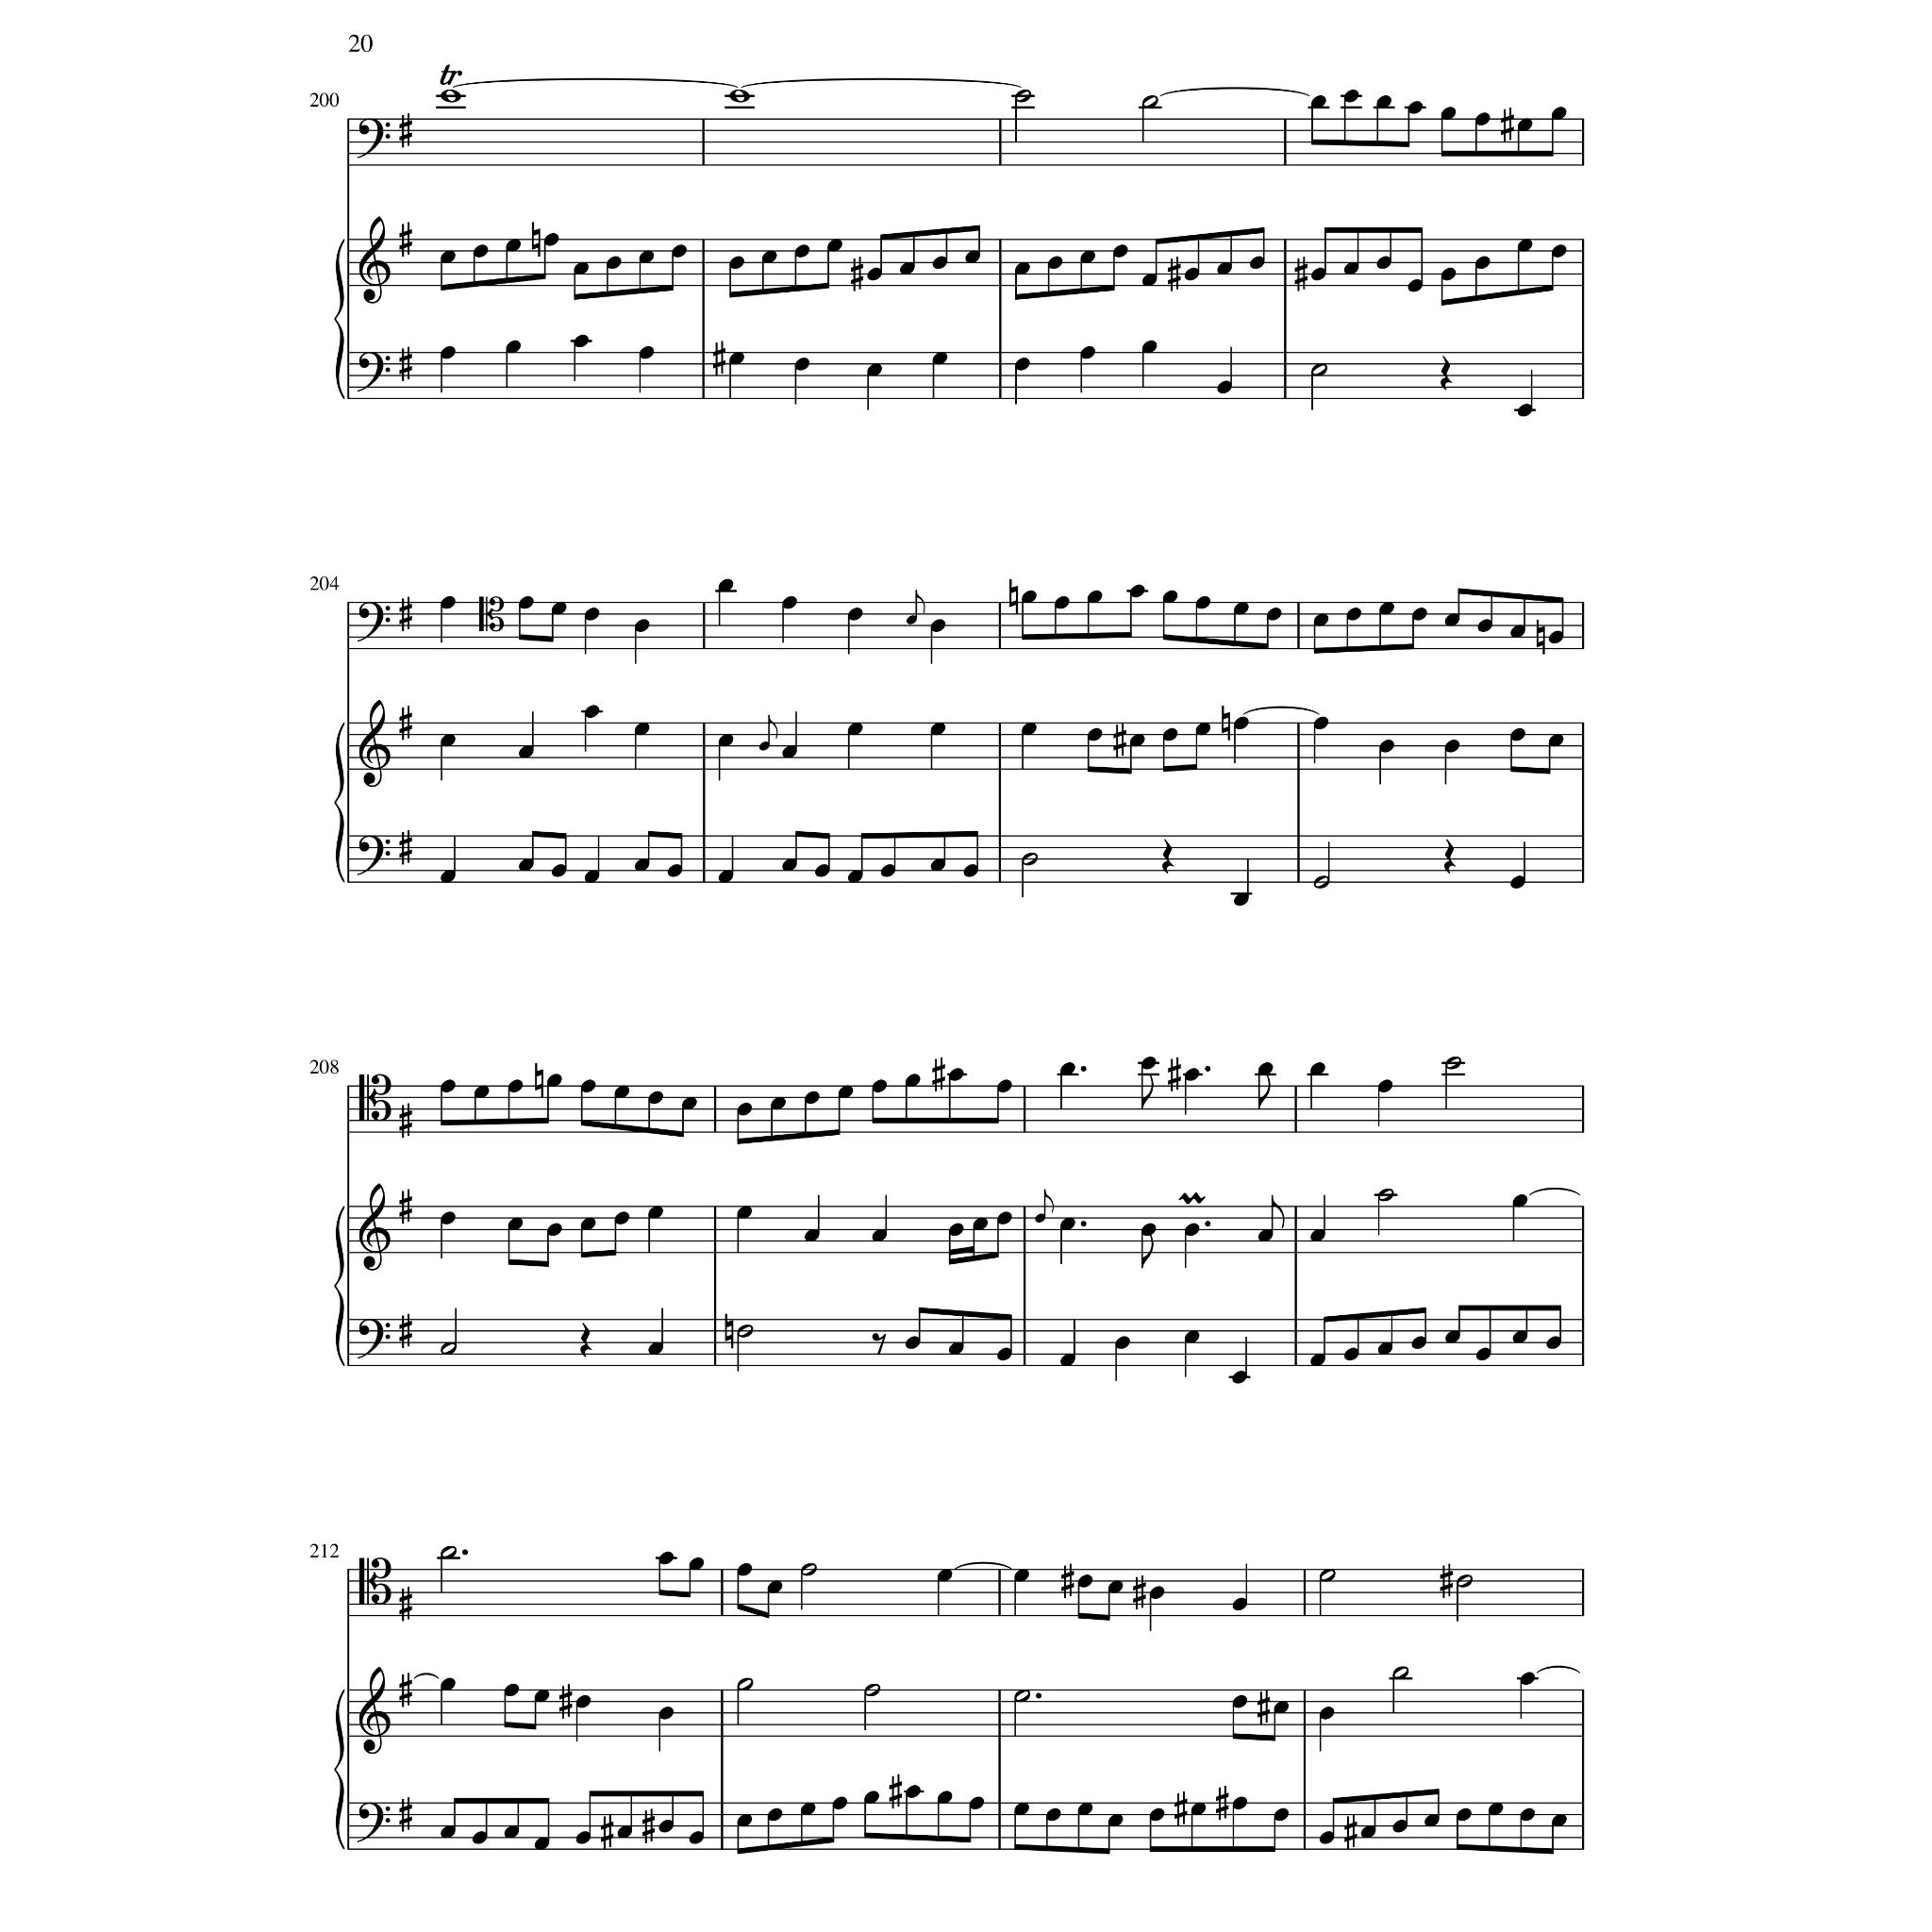brace: (333, 239, 345, 400), (333, 722, 345, 883), (333, 1205, 345, 1366), (333, 1690, 345, 1851)
fClef: (357, 352, 391, 393), (357, 119, 391, 159), (357, 835, 391, 876), (357, 602, 391, 642), (357, 1318, 391, 1359), (357, 1803, 391, 1844)
flag8thDown: (1141, 1235, 1154, 1269), (1141, 1076, 1154, 1109), (1258, 1076, 1270, 1109)
flag8thUp: (1272, 1196, 1284, 1230), (1044, 1189, 1054, 1214), (916, 591, 925, 616), (770, 715, 778, 740)
gClef: (359, 216, 391, 304), (359, 699, 391, 787), (359, 1184, 391, 1272), (359, 1667, 391, 1755)
noteheadBlack: (517, 745, 534, 759), (517, 858, 534, 872), (517, 596, 534, 610), (929, 722, 947, 736), (929, 858, 947, 872), (1256, 1062, 1274, 1076), (1511, 1194, 1529, 1208), (545, 1223, 563, 1237), (1309, 267, 1325, 281), (1309, 96, 1325, 110), (1343, 262, 1359, 276), (1113, 244, 1129, 258), (1079, 251, 1095, 265), (1217, 380, 1233, 395), (1217, 262, 1233, 276), (1184, 267, 1200, 281), (1141, 340, 1157, 354), (1552, 244, 1568, 258), (1552, 106, 1568, 120), (1440, 267, 1456, 281), (1440, 106, 1456, 120), (1376, 96, 1392, 110), (1516, 403, 1532, 418), (1516, 239, 1532, 253), (1516, 119, 1532, 133), (639, 251, 655, 265), (671, 244, 686, 258), (573, 334, 589, 349), (573, 262, 589, 276), (441, 251, 456, 265), (506, 340, 522, 354), (506, 239, 522, 253), (472, 244, 488, 258), (964, 251, 980, 265), (899, 262, 915, 276), (1014, 357, 1030, 372), (1014, 262, 1030, 276), (761, 251, 777, 265), (794, 357, 810, 372), (794, 244, 810, 258), (826, 239, 842, 253), (867, 267, 883, 281), (867, 363, 883, 377), (1233, 893, 1249, 908), (1233, 717, 1249, 731), (1233, 602, 1249, 616), (1194, 722, 1210, 736), (1194, 596, 1210, 610), (1313, 717, 1329, 731), (1313, 614, 1329, 628), (1265, 607, 1281, 621), (1054, 596, 1070, 610), (1129, 584, 1145, 598), (1509, 625, 1525, 639), (1378, 602, 1394, 616), (1346, 607, 1362, 621), (1444, 614, 1460, 628), (1410, 607, 1426, 621), (584, 607, 600, 621), (584, 704, 600, 718), (633, 722, 649, 736), (550, 863, 566, 878), (550, 602, 566, 616), (718, 579, 734, 593), (667, 863, 683, 878), (633, 858, 649, 872), (441, 596, 456, 610), (879, 863, 895, 878), (847, 722, 863, 736), (847, 607, 863, 621), (1021, 722, 1037, 736), (962, 863, 978, 878), (782, 858, 798, 872), (782, 745, 798, 759), (782, 596, 798, 610), (814, 863, 830, 878), (1184, 1223, 1200, 1237), (1139, 1056, 1155, 1070), (1115, 1336, 1131, 1350), (1139, 1223, 1155, 1237), (996, 1346, 1012, 1361), (996, 1212, 1012, 1226), (1060, 1353, 1076, 1368), (1060, 1062, 1076, 1076), (1546, 1336, 1562, 1350), (1476, 1346, 1491, 1361), (1309, 1353, 1325, 1368), (1309, 1062, 1325, 1076), (1410, 1336, 1426, 1350), (1343, 1346, 1359, 1361), (681, 1097, 697, 1111), (648, 1205, 663, 1219), (614, 1212, 630, 1226), (441, 1212, 456, 1226), (948, 1223, 964, 1237), (904, 1336, 920, 1350), (736, 1205, 752, 1219), (736, 1102, 752, 1116), (770, 1097, 786, 1111), (1231, 1598, 1247, 1612), (1231, 1695, 1247, 1709), (1231, 1796, 1247, 1810), (1191, 1801, 1207, 1815), (1014, 1801, 1030, 1815), (1274, 1700, 1290, 1714), (1108, 1813, 1123, 1828), (1108, 1580, 1123, 1594), (1077, 1801, 1093, 1815), (1552, 1813, 1568, 1828), (1488, 1801, 1504, 1815), (1424, 1813, 1440, 1828), (575, 1695, 591, 1709), (534, 1836, 550, 1851), (688, 1557, 704, 1571), (658, 1552, 674, 1566), (441, 1677, 456, 1691), (832, 1796, 847, 1810), (800, 1801, 816, 1815), (1014, 1568, 1030, 1582), (968, 1796, 984, 1810), (936, 1568, 952, 1582), (736, 1813, 752, 1828), (766, 1580, 782, 1594), (929, 619, 947, 632), (971, 1217, 989, 1230), (1256, 1230, 1274, 1242), (1511, 1330, 1529, 1343), (545, 1074, 563, 1086), (1454, 1808, 1472, 1821), (616, 1826, 633, 1838), (502, 1826, 520, 1838), (502, 1684, 520, 1697), (1249, 257, 1265, 269), (1343, 90, 1359, 103), (1079, 347, 1095, 359), (1141, 274, 1157, 287), (1407, 280, 1422, 292), (1407, 103, 1422, 115), (1376, 257, 1392, 269), (1047, 257, 1063, 269), (1474, 257, 1490, 269), (1474, 113, 1490, 126), (639, 347, 655, 359), (607, 257, 623, 269), (729, 352, 745, 364), (729, 257, 745, 269), (441, 347, 456, 359), (543, 234, 559, 246), (932, 352, 948, 364), (932, 257, 948, 269), (1086, 729, 1102, 741), (1086, 591, 1102, 603), (1162, 729, 1178, 741), (1162, 591, 1178, 603), (1129, 734, 1145, 747), (1548, 734, 1564, 747), (1548, 632, 1564, 644), (1509, 876, 1525, 888), (1509, 729, 1525, 741), (1378, 740, 1394, 752), (1477, 619, 1493, 632), (1444, 740, 1460, 752), (584, 870, 600, 883), (633, 619, 649, 632), (718, 734, 734, 747), (441, 734, 456, 747), (718, 870, 734, 883), (441, 870, 456, 883), (847, 870, 863, 883), (1021, 591, 1037, 603), (1184, 1069, 1200, 1081), (1184, 1330, 1200, 1343), (1231, 1371, 1247, 1384), (996, 1079, 1012, 1092), (1060, 1217, 1076, 1230), (1445, 1330, 1461, 1343), (1309, 1230, 1325, 1242), (1376, 1343, 1392, 1355), (1376, 1079, 1392, 1092), (580, 1217, 596, 1230), (580, 1079, 596, 1092), (648, 1092, 663, 1104), (648, 1343, 663, 1355), (614, 1086, 630, 1099), (508, 1217, 524, 1230), (508, 1079, 524, 1092), (472, 1086, 488, 1099), (441, 1079, 456, 1092), (870, 1079, 886, 1092), (870, 1230, 886, 1242), (904, 1074, 920, 1086), (837, 1086, 853, 1099), (948, 1343, 964, 1355), (948, 1069, 964, 1081), (803, 1230, 819, 1242), (803, 1092, 819, 1104), (1148, 1587, 1164, 1599), (1148, 1808, 1164, 1821), (1274, 1808, 1290, 1821), (1077, 1575, 1093, 1587), (1046, 1808, 1062, 1821), (1520, 1672, 1536, 1684), (1520, 1808, 1536, 1821), (1318, 1831, 1334, 1844), (1318, 1707, 1334, 1720), (1392, 1821, 1408, 1833), (1361, 1826, 1376, 1838), (575, 1831, 591, 1844), (534, 1690, 550, 1702), (688, 1831, 704, 1844), (658, 1821, 674, 1833), (658, 1707, 674, 1720), (471, 1831, 487, 1844), (441, 1826, 456, 1838), (863, 1790, 879, 1803), (936, 1790, 952, 1803), (906, 1785, 922, 1798), (736, 1564, 752, 1576), (766, 1808, 782, 1821), (1033, 1212, 1046, 1223), (906, 614, 916, 625), (759, 741, 770, 752)
noteheadHalf: (1141, 96, 1159, 110), (1444, 1056, 1461, 1070), (1318, 1568, 1336, 1582), (736, 1677, 754, 1691), (1311, 363, 1327, 377), (1014, 90, 1031, 103), (1313, 876, 1330, 888), (1021, 853, 1039, 865), (1376, 1189, 1394, 1201), (439, 1343, 456, 1355), (736, 1325, 754, 1338), (1392, 1667, 1410, 1679), (439, 1546, 456, 1559), (800, 1564, 817, 1576), (1456, 1575, 1472, 1587), (1014, 1690, 1030, 1702), (863, 1684, 879, 1697)
noteheadWhole: (727, 90, 750, 103), (439, 90, 460, 103)
rest8th: (872, 1332, 886, 1355)
restQuarter: (1440, 356, 1453, 391), (1162, 839, 1175, 874), (1444, 839, 1456, 874), (580, 1322, 593, 1357)
